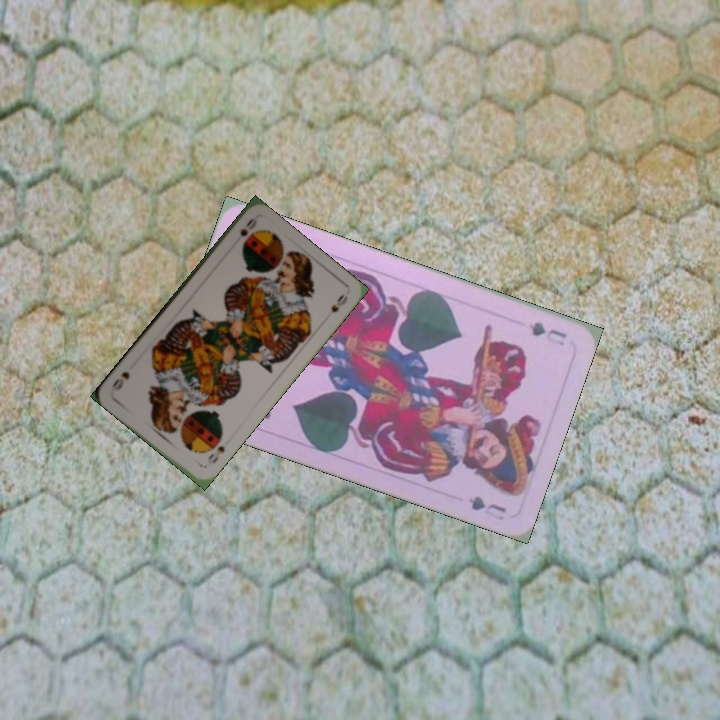GU: (524, 317, 569, 349)
SO: (236, 214, 260, 239), (204, 441, 228, 466)
